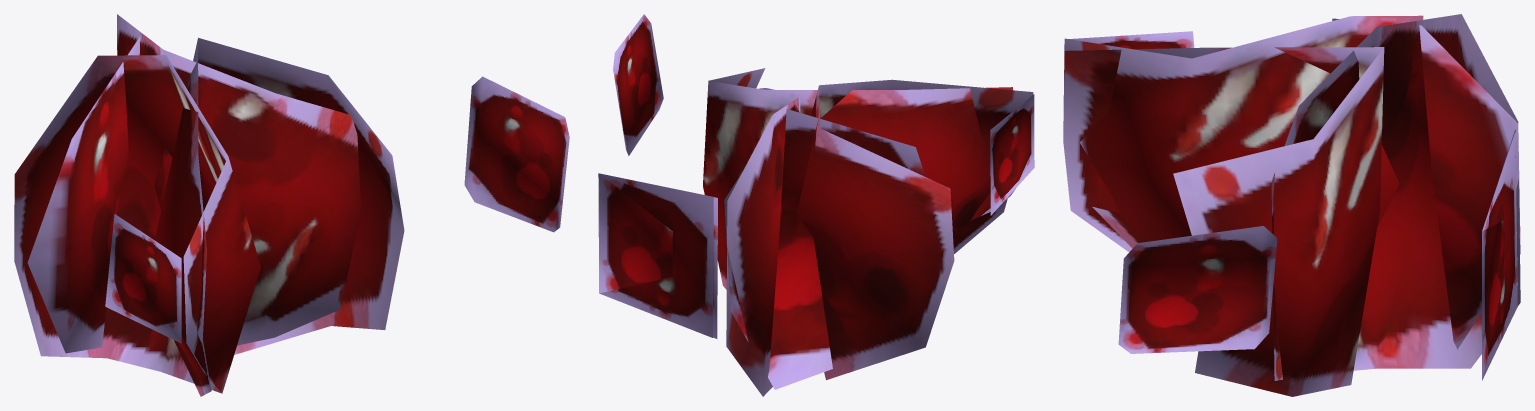
Rendered from Zombie_Broken_Normal_Body_1b1d890b__Zombie_Broken_Purple_cee75a00_c1f257.obj.
3 renders of one model, left to right at view 1: azimuth 30°, elevation 25°; view 2: azimuth 150°, elevation 25°; view 3: azimuth 270°, elevation 25°, orthographic. The views are drawn at different scales.
Size of the model in its own units: 0.7389 by 0.504 by 0.5952.
1 material, 1 textured.
